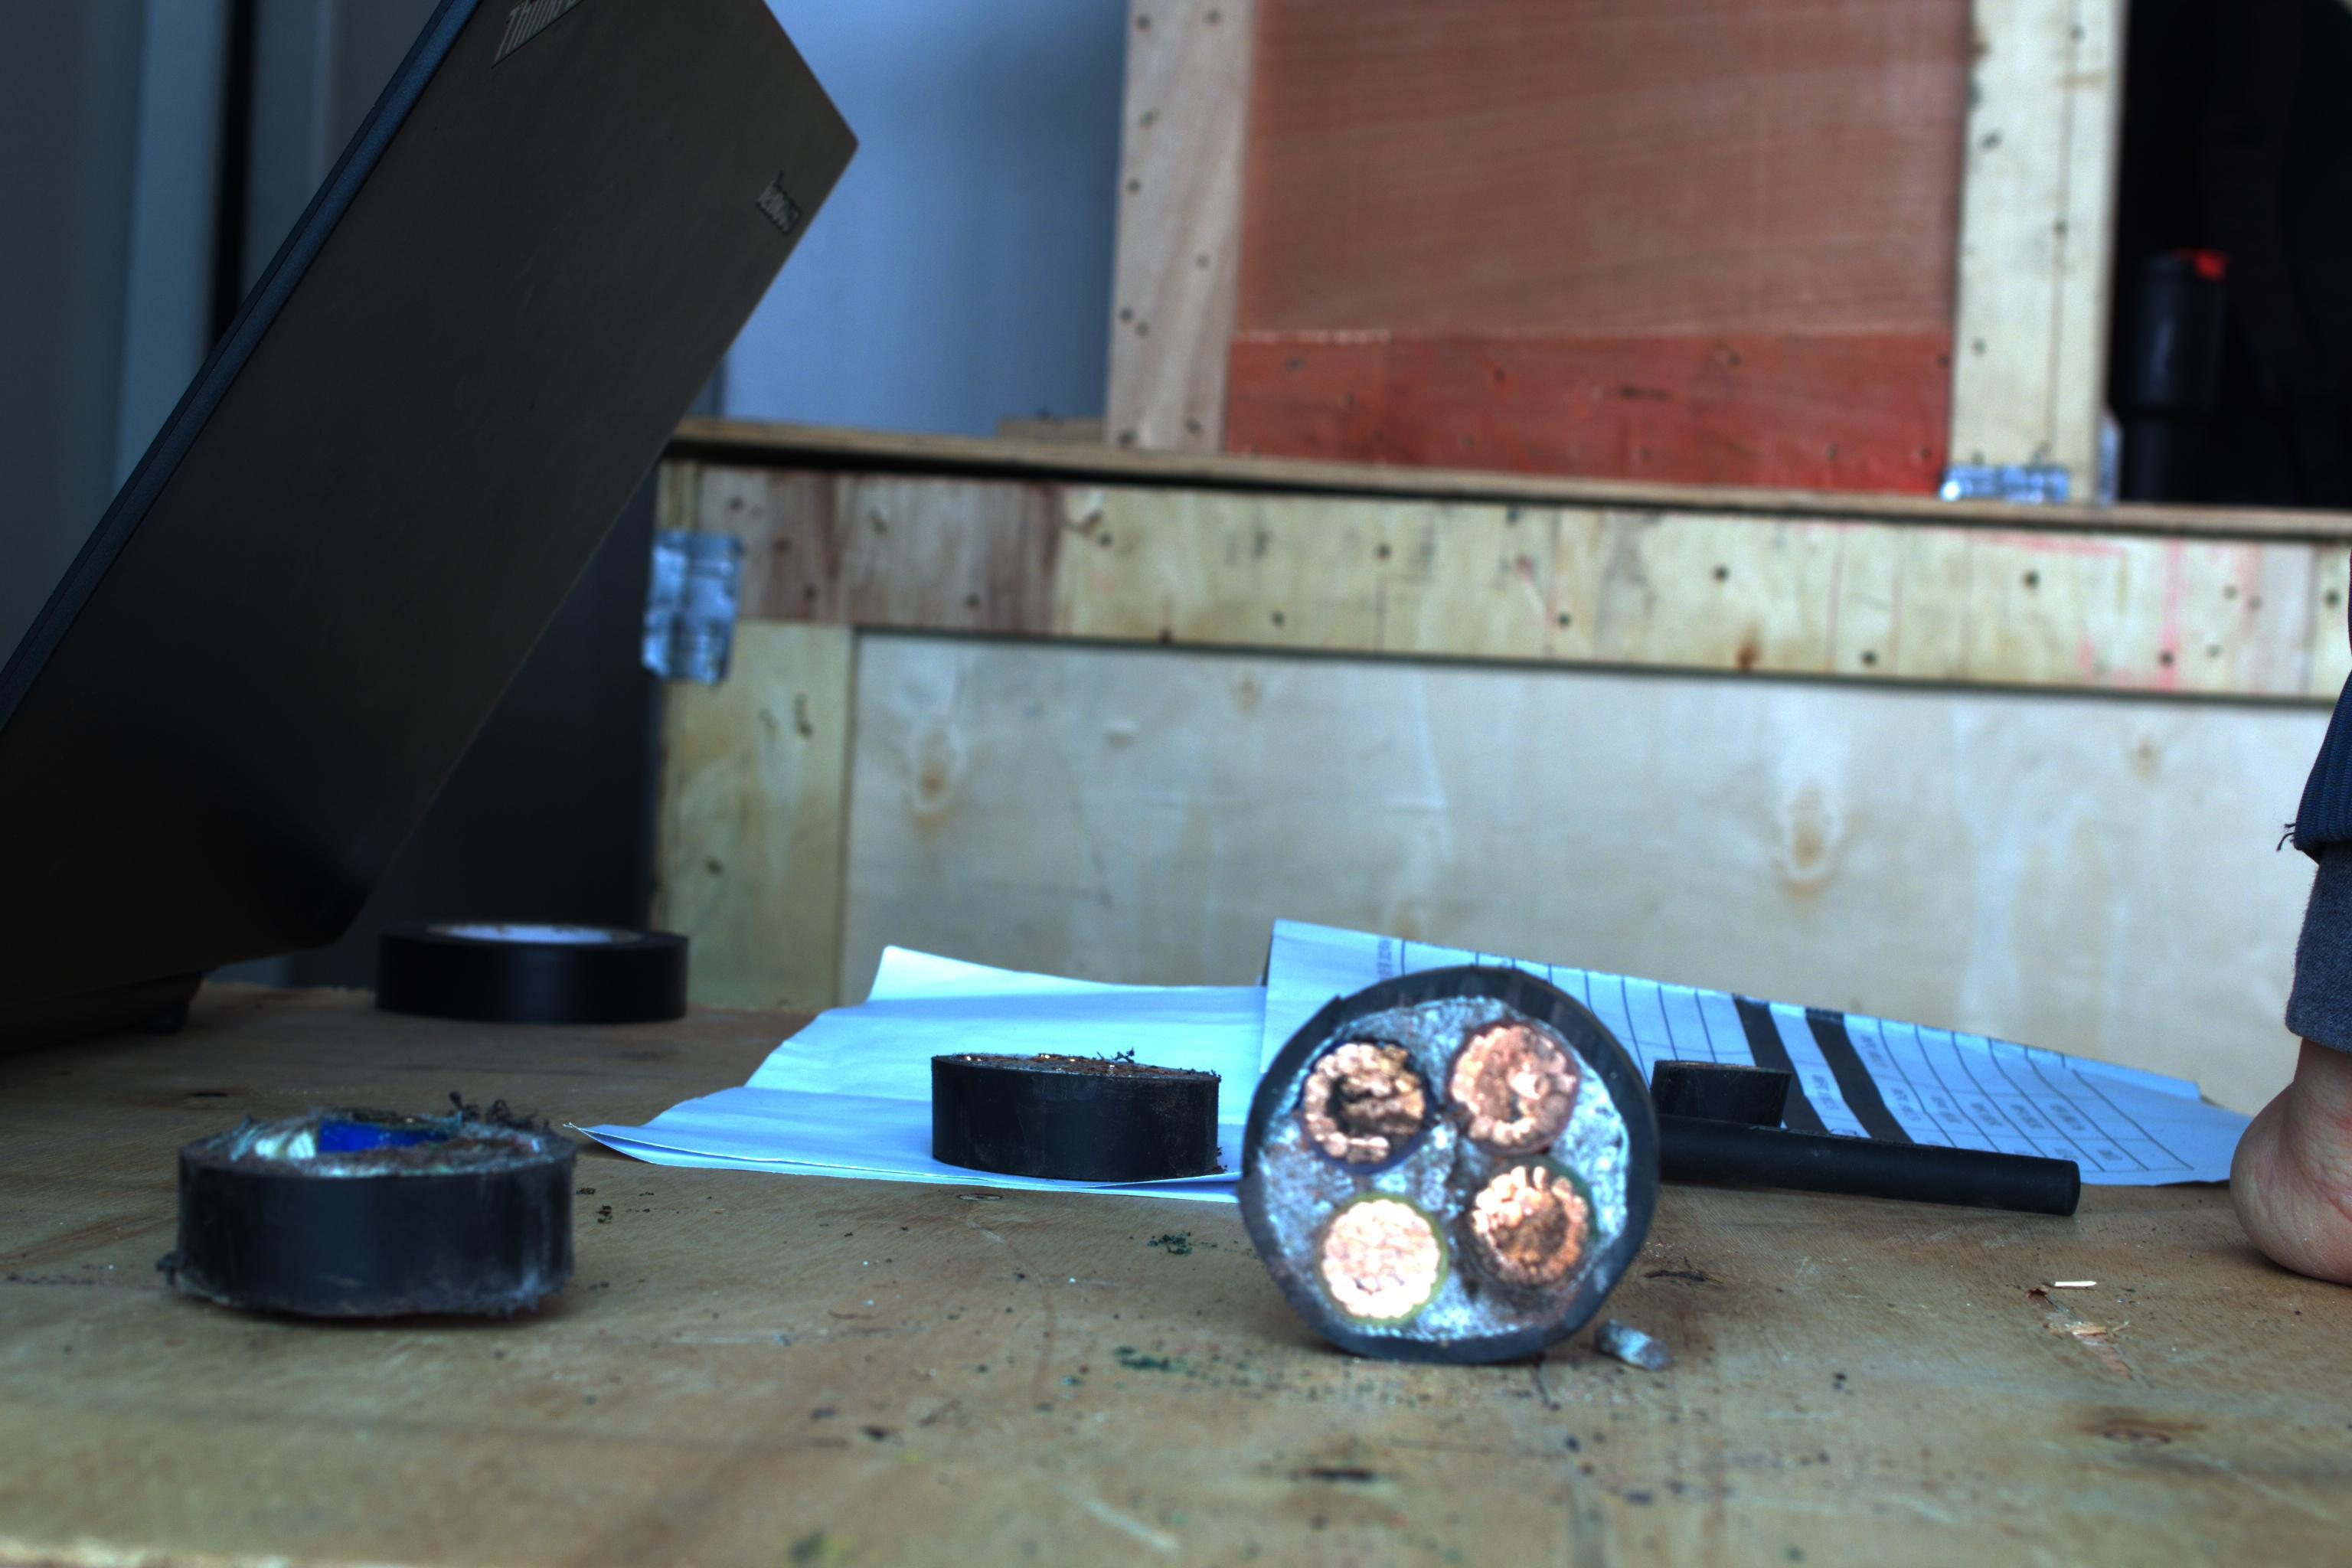YJV_0.6_1kV_4x120: (1235, 975, 1683, 1365)
